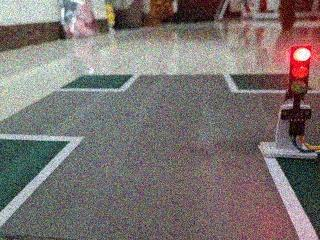red: (279, 40, 314, 114)
